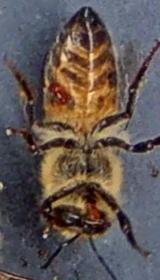varroa_mite: (41, 65, 74, 114)
